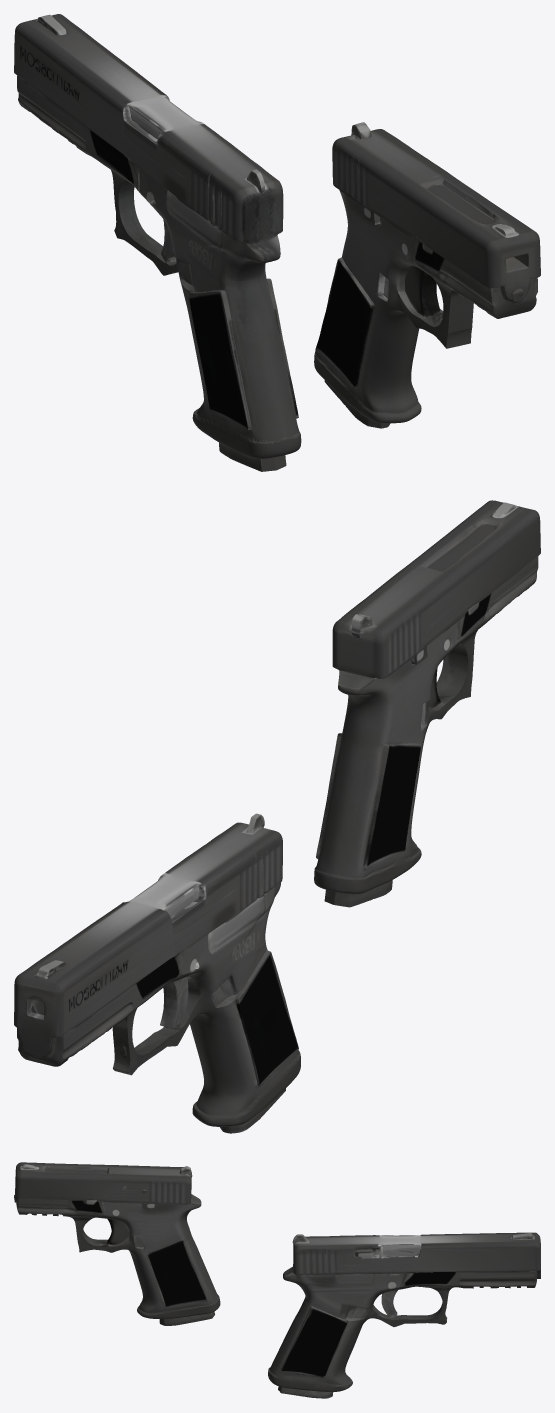
3 renders of one model, top to bottom at view 1: azimuth 30°, elevation 25°; view 2: azimuth 150°, elevation 25°; view 3: azimuth 270°, elevation 25°, orthographic. The views are drawn at different scales.
Parts seen in each view (by area): view 1: tripo_node_204278e3-60bc-4d2d-8ccb-623901710b90; view 2: tripo_node_204278e3-60bc-4d2d-8ccb-623901710b90; view 3: tripo_node_204278e3-60bc-4d2d-8ccb-623901710b90.
Boxes of the visible parts, x1,y1,x2,y2 form: tripo_node_204278e3-60bc-4d2d-8ccb-623901710b90: (14, 14, 540, 471); tripo_node_204278e3-60bc-4d2d-8ccb-623901710b90: (14, 500, 540, 1133); tripo_node_204278e3-60bc-4d2d-8ccb-623901710b90: (14, 1162, 540, 1398).
Size of the model in its own units: 0.0684 by 0.4816 by 1.
1 material, 1 textured.
